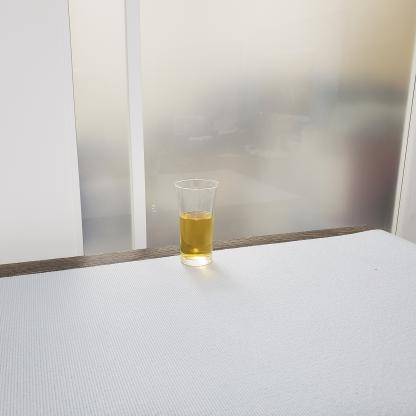glass: (171, 174, 224, 271)
